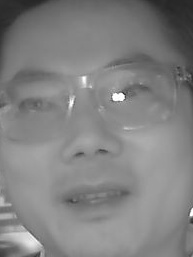glass: (92, 61, 174, 130), (1, 72, 78, 142)
mouth: (56, 178, 132, 218)
